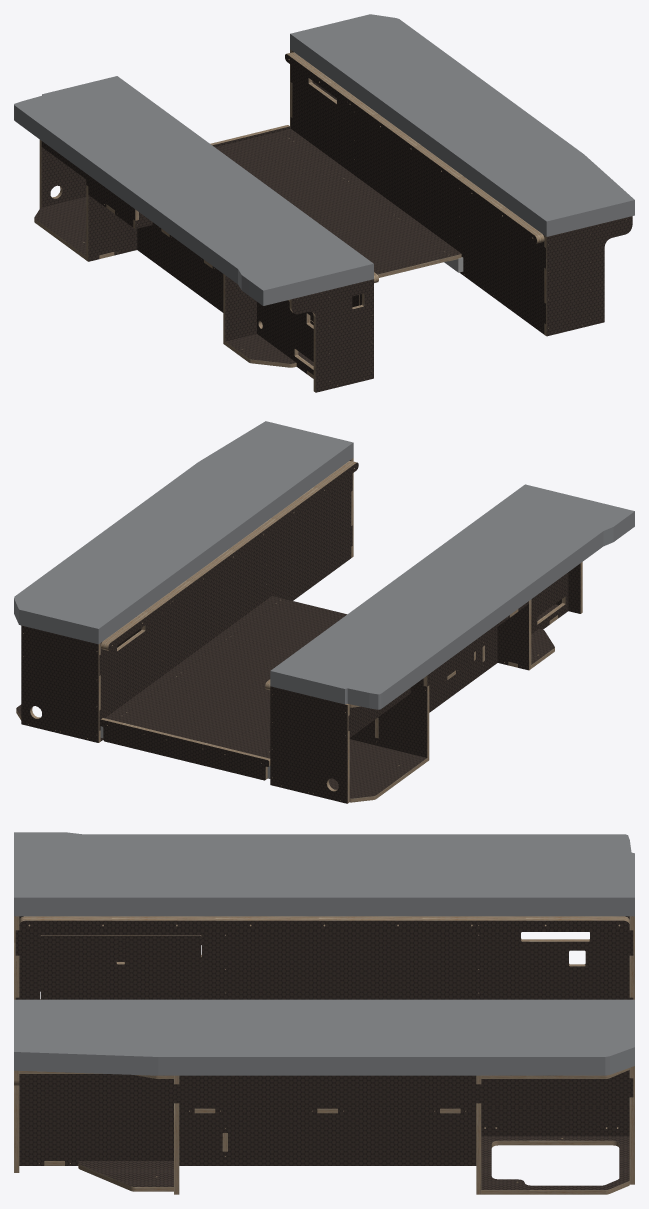
The model's file is two-side-bed-hexa.glb.
The picture shows the model from 3 angles, top to bottom: view 1: azimuth 30°, elevation 25°; view 2: azimuth 150°, elevation 25°; view 3: azimuth 270°, elevation 25°; orthographic projection. The views are drawn at different scales.
Visible parts, largest first — view 1: Driver side - wall contour - removable_0, Passenger side - outer overhang 10mm - removable_0, P (2)_1, ボディ135_1, ボディ63_0, ボディ65_1, ボディ21 (1)_1, D_1, ボディ226_1, ボディ67_1, D (1)_1, ボディ23 (1)_1 (+4 smaller); view 2: Driver side - wall contour - removable_0, Passenger side - outer overhang 10mm - removable_0, P (2)_1, ボディ135_1, D (1)_1, P_1, ボディ142_0, D_1, ボディ21 (1)_1, ボディ67_1, ボディ226_1, ボディ23 (1)_1 (+6 smaller); view 3: Driver side - wall contour - removable_0, Passenger side - outer overhang 10mm - removable_0, D (2)_1, ボディ27 (1)_1, ボディ9 (1)_1, ボディ223_1, ボディ227_1, P (2)_1, ボディ197_1, ボディ71_1, ボディ14 (1)_1, ボディ227_0 (+8 smaller).
Boxes of the visible parts, x1,y1,x2,y2 form: Driver side - wall contour - removable_0: (14, 76, 373, 305); Passenger side - outer overhang 10mm - removable_0: (290, 14, 634, 236); P (2)_1: (290, 51, 545, 334); ボディ135_1: (215, 129, 461, 274); ボディ63_0: (546, 216, 632, 336); ボディ65_1: (291, 279, 373, 392); ボディ21 (1)_1: (137, 225, 313, 374); D_1: (88, 195, 137, 261); ボディ226_1: (285, 54, 536, 243); ボディ67_1: (34, 197, 86, 255); D (1)_1: (41, 147, 86, 207); ボディ23 (1)_1: (225, 275, 256, 341); Driver side - wall contour - removable_0: (270, 484, 634, 709); Passenger side - outer overhang 10mm - removable_0: (14, 421, 353, 644); P (2)_1: (99, 460, 352, 741); ボディ135_1: (105, 596, 346, 758); D (1)_1: (270, 686, 347, 803); P_1: (21, 625, 98, 742); ボディ142_0: (100, 719, 268, 780); D_1: (349, 678, 427, 757); ボディ21 (1)_1: (429, 572, 568, 712); ボディ67_1: (329, 739, 426, 798); ボディ226_1: (108, 462, 358, 650); ボディ23 (1)_1: (497, 604, 528, 670); Driver side - wall contour - removable_0: (14, 832, 634, 916); Passenger side - outer overhang 10mm - removable_0: (14, 999, 634, 1075); D (2)_1: (15, 916, 633, 999); ボディ27 (1)_1: (19, 1074, 476, 1165); ボディ9 (1)_1: (174, 1075, 481, 1113); ボディ223_1: (40, 935, 201, 999); ボディ227_1: (19, 920, 629, 930); P (2)_1: (481, 1106, 629, 1136); ボディ197_1: (481, 1070, 633, 1106); ボディ71_1: (481, 1136, 629, 1189); ボディ14 (1)_1: (78, 1161, 173, 1186); ボディ227_0: (19, 918, 629, 926).
Size of the model in its own units: 1.54 by 0.445 by 1.8.
4 materials, 2 textured.
